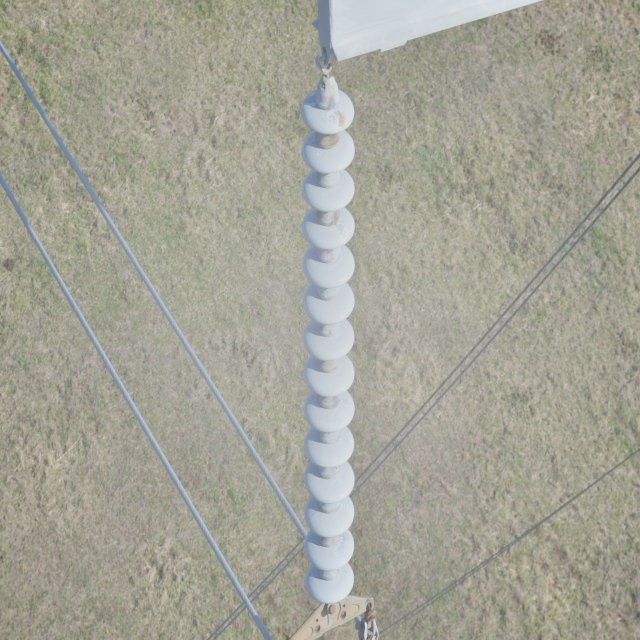insulator: (299, 88, 357, 602)
